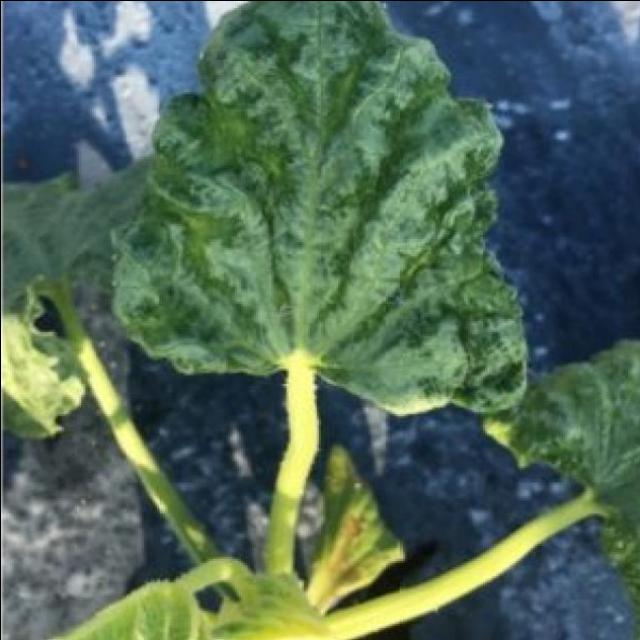Whitefly: (117, 0, 523, 415), (469, 334, 640, 613), (332, 502, 369, 566)
